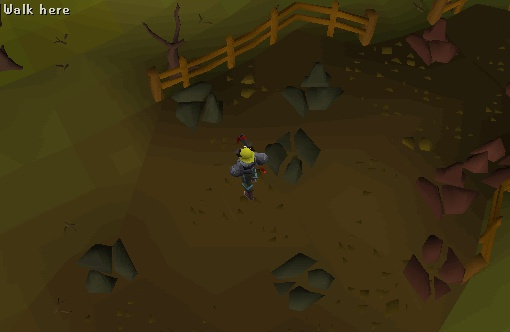coal: (256, 246, 342, 319), (247, 119, 333, 192), (152, 70, 238, 143), (65, 232, 151, 305), (267, 51, 353, 124)
iron: (389, 13, 475, 75), (388, 236, 474, 298)
